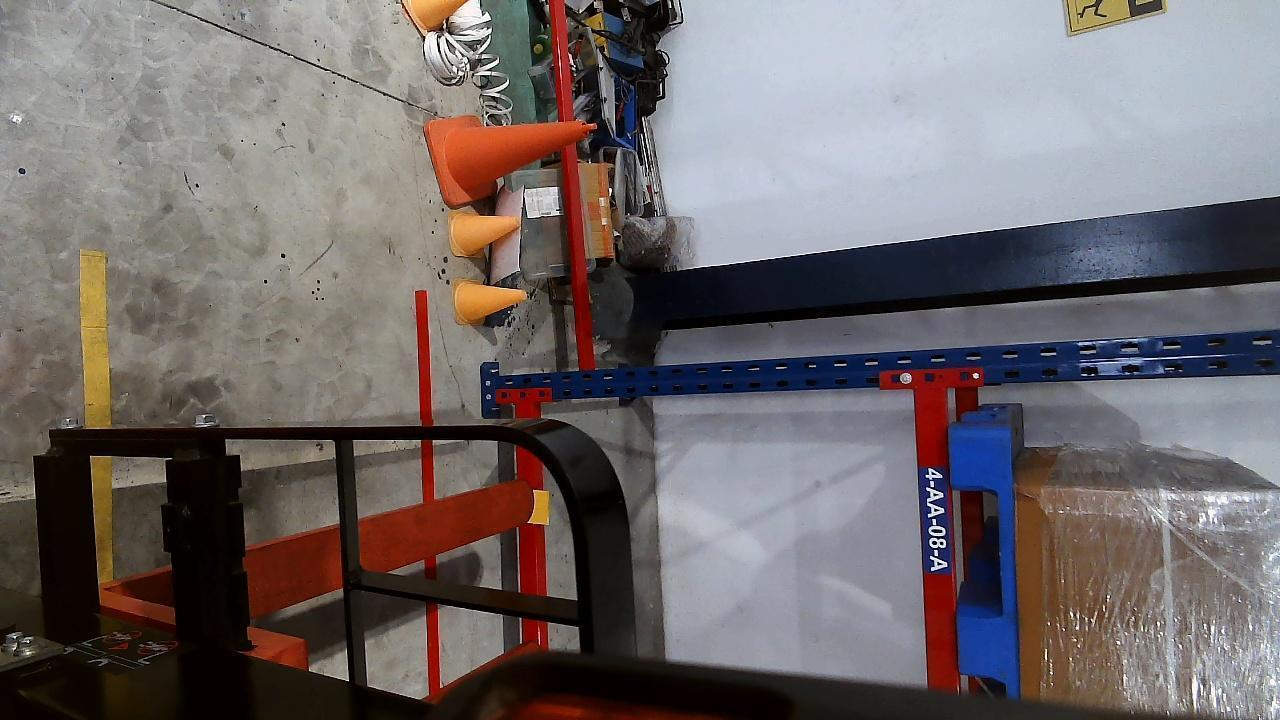red_line: (412, 289, 443, 687)
yellow_line: (78, 250, 112, 576)
